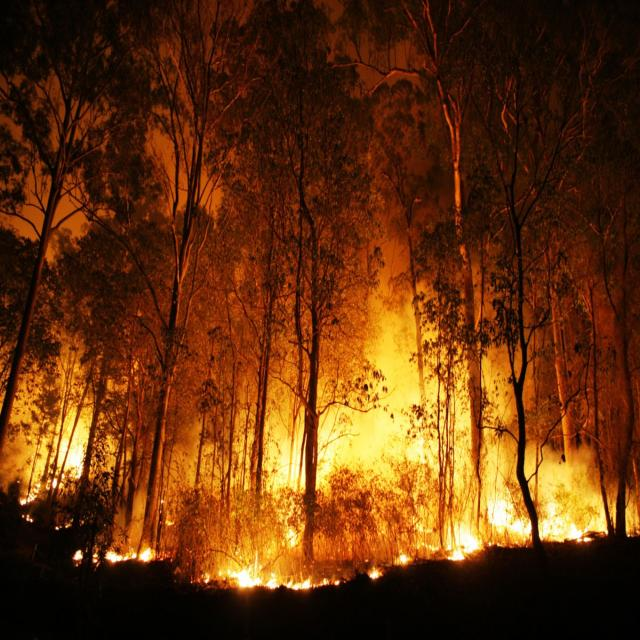Fire: (474, 489, 608, 546), (197, 547, 334, 601), (8, 413, 92, 498), (260, 411, 338, 500), (70, 532, 154, 576), (431, 513, 488, 563), (363, 558, 389, 584), (398, 546, 412, 573)
Smoke: (342, 288, 594, 480)
